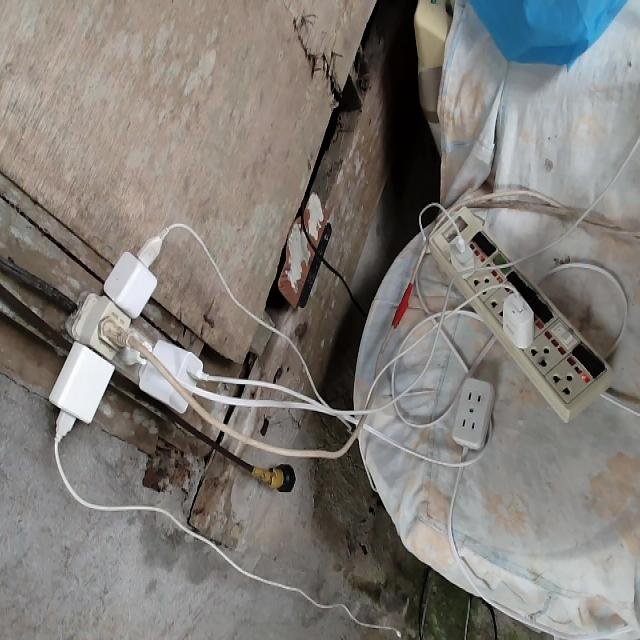-: (50, 231, 208, 444)
